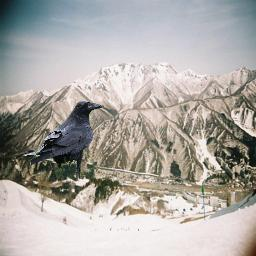Crow: (22, 101, 102, 179)
